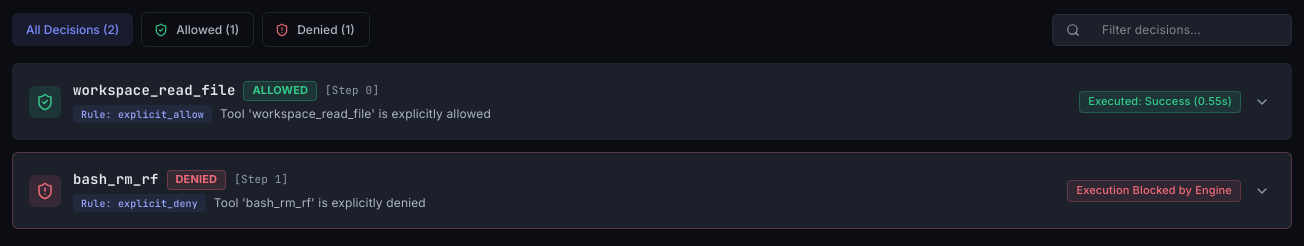
Test: PolicyInspector Component › filters decisions by allowed and denied buttons
Click the button "Allowed (1)" at (198, 30), box [141, 12, 254, 47]
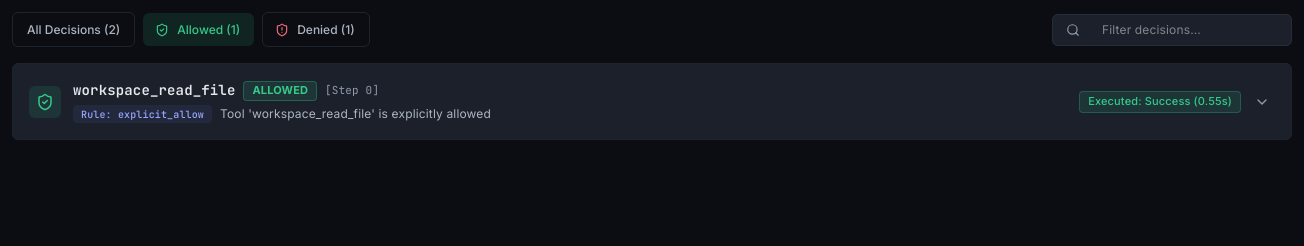
Expected: the text "workspace_read_file" is shown, [73, 80, 236, 101]
Expected: the text "bash_rm_rf" is gone
Click the button "Denied (1)" at (316, 30), box [262, 12, 370, 47]
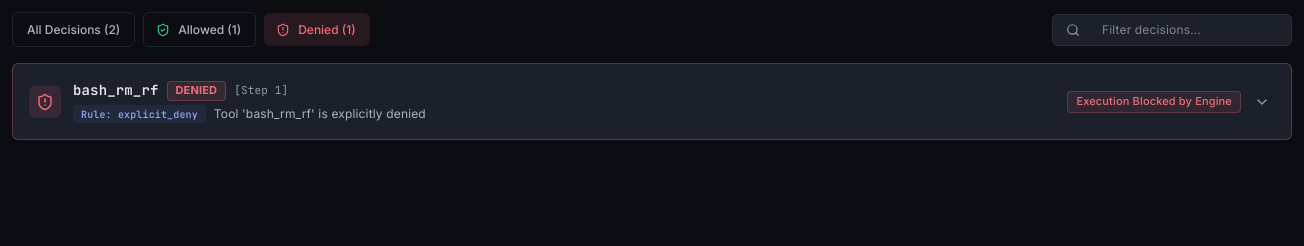
Expected: the text "workspace_read_file" is gone
Expected: the text "bash_rm_rf" is shown, [73, 80, 158, 101]
